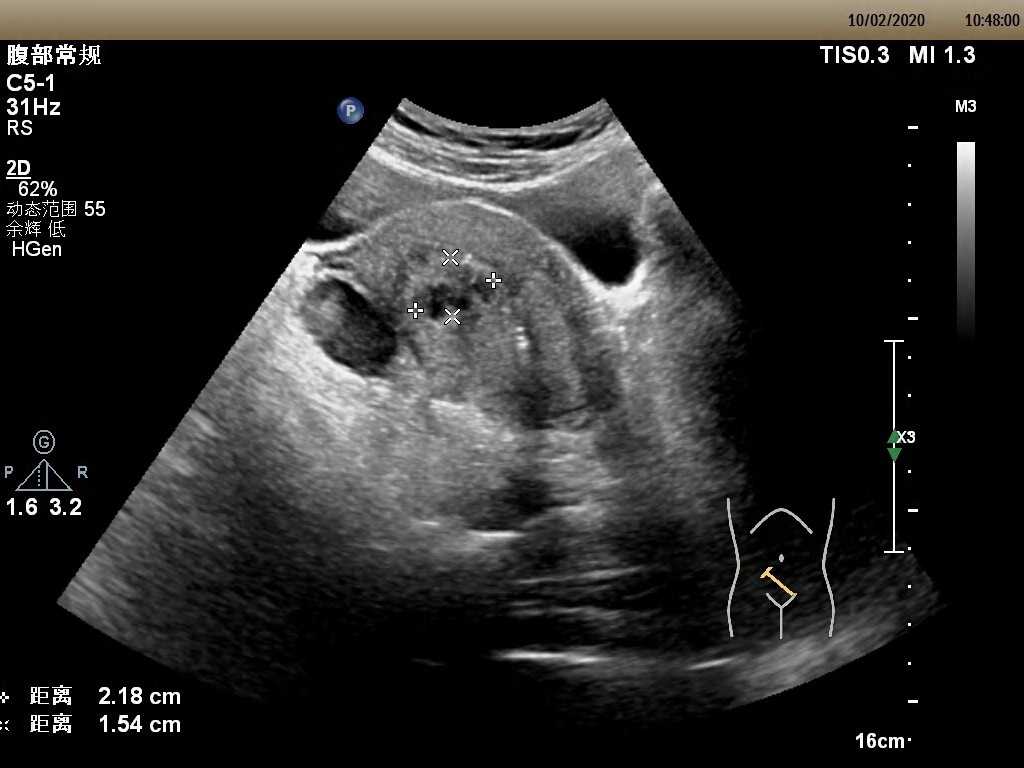肌瘤: (417, 258, 494, 319)
